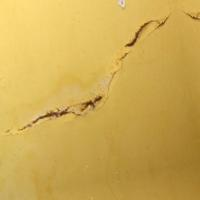crack: (16, 9, 199, 130)
